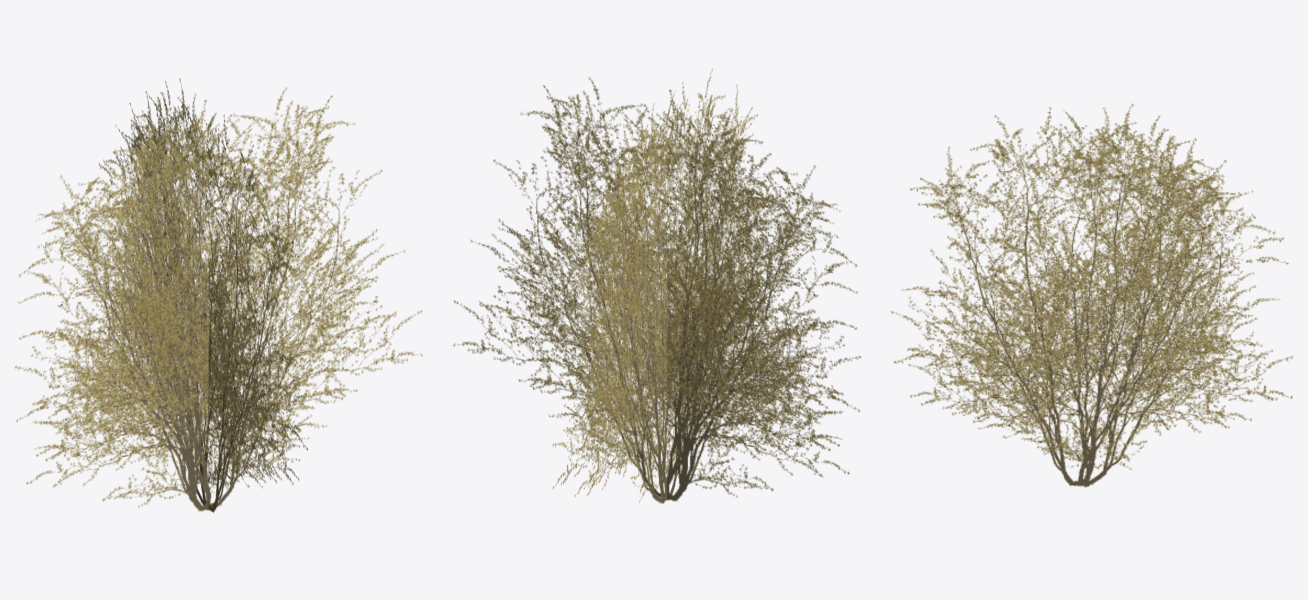
The model's file is HamamelisVirginiana.glb.
3 views of the same model, side by side, from view 1: azimuth 30°, elevation 25°; view 2: azimuth 150°, elevation 25°; view 3: azimuth 270°, elevation 25° (orthographic). The views are drawn at different scales.
Visible parts, largest first — view 1: mesh__mat_billboard_16; view 2: mesh__mat_billboard_16; view 3: mesh__mat_billboard_16.
Part boxes in pixels (box(x1,y1,x2,y2)): mesh__mat_billboard_16: box(15, 78, 422, 512); mesh__mat_billboard_16: box(453, 69, 860, 503); mesh__mat_billboard_16: box(891, 104, 1292, 487).
Bounding box in the file's own units: 4.33 × 4.18 × 3.96.
Materials: 1 (1 with a texture image).
